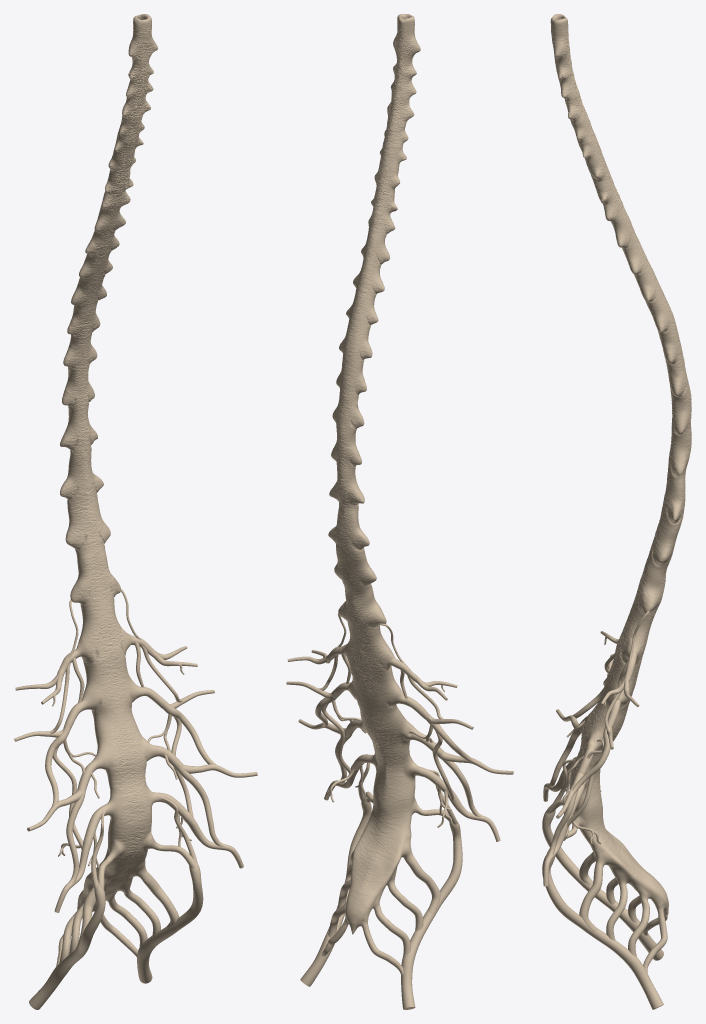
File: SpinalNerves1.glb
3 renders of one model, left to right at view 1: azimuth 30°, elevation 25°; view 2: azimuth 150°, elevation 25°; view 3: azimuth 270°, elevation 25°, orthographic. The views are drawn at different scales.
Parts seen in each view (by area): view 1: Mesh; view 2: Mesh; view 3: Mesh.
Part boxes in pixels (x1,y1,x2,y2): Mesh: [14, 14, 257, 1009]; Mesh: [286, 14, 513, 1009]; Mesh: [542, 14, 691, 1009].
Bounding box in the file's own units: 163 × 690 × 96.58.
